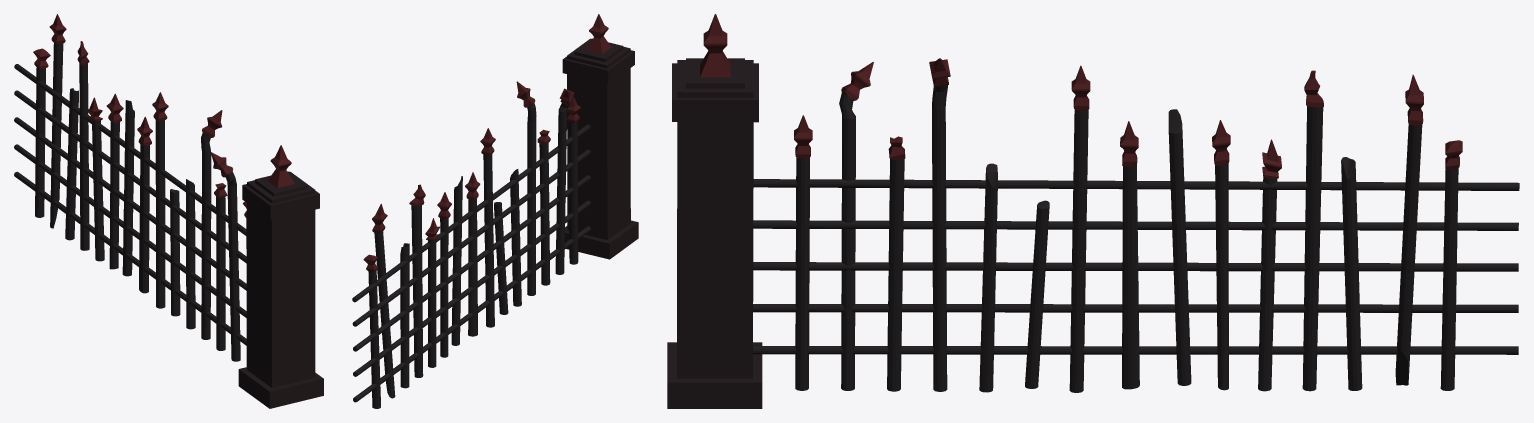
The model's file is Metal_fence_harmed_half.fbx.
The picture shows the model from 3 angles, left to right: view 1: azimuth 30°, elevation 25°; view 2: azimuth 150°, elevation 25°; view 3: azimuth 270°, elevation 25°; orthographic projection. The views are drawn at different scales.
Parts seen in each view (by area): view 1: Metal_fence_harmed_left; view 2: Metal_fence_harmed_left; view 3: Metal_fence_harmed_left.
Boxes of the visible parts, left/top/right/bottom form: Metal_fence_harmed_left: left=14, top=14, right=323, bottom=408; Metal_fence_harmed_left: left=352, top=14, right=638, bottom=408; Metal_fence_harmed_left: left=667, top=14, right=1519, bottom=408.
Size of the model in its own units: 155 by 1387 by 678.
